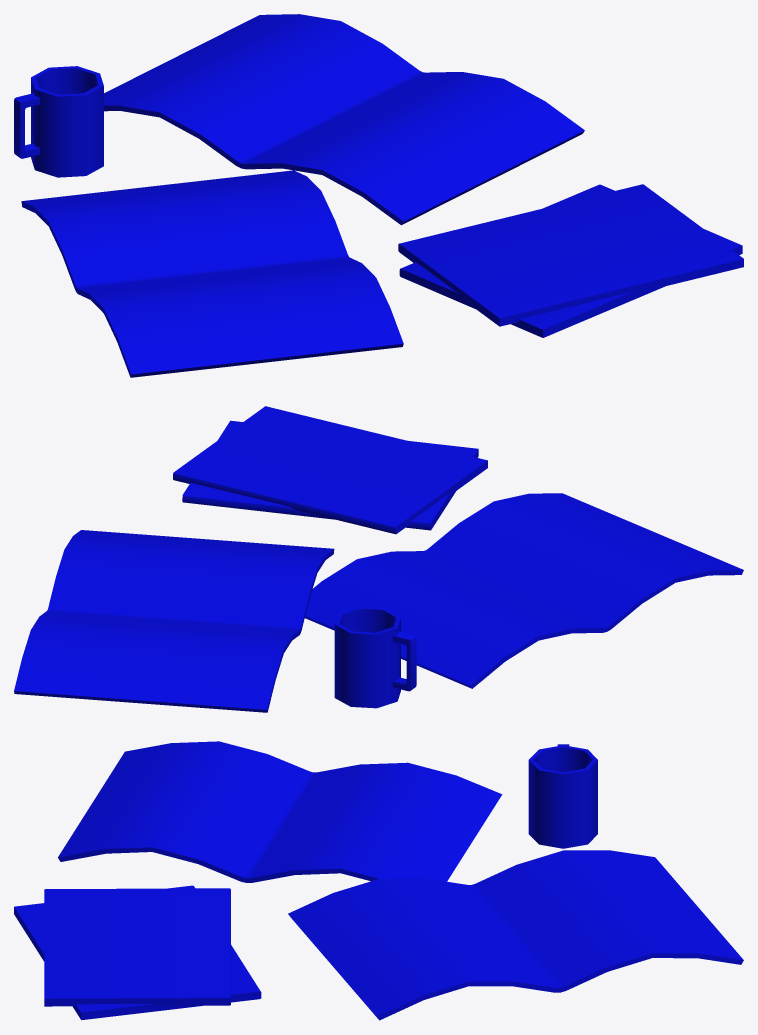
Rendered from ClutterPile_Rec_5.FBX.
The picture shows the model from 3 angles, top to bottom: view 1: azimuth 30°, elevation 25°; view 2: azimuth 150°, elevation 25°; view 3: azimuth 270°, elevation 25°; orthographic projection. The views are drawn at different scales.
Parts seen in each view (by area): view 1: ClutterPile_Rec_5; view 2: ClutterPile_Rec_5; view 3: ClutterPile_Rec_5.
Part boxes in pixels (x1,y1,x2,y2): ClutterPile_Rec_5: [14, 14, 743, 377]; ClutterPile_Rec_5: [14, 406, 743, 712]; ClutterPile_Rec_5: [14, 741, 743, 1020].
Bounding box in the file's own units: 20.25 × 2.67 × 23.56.
